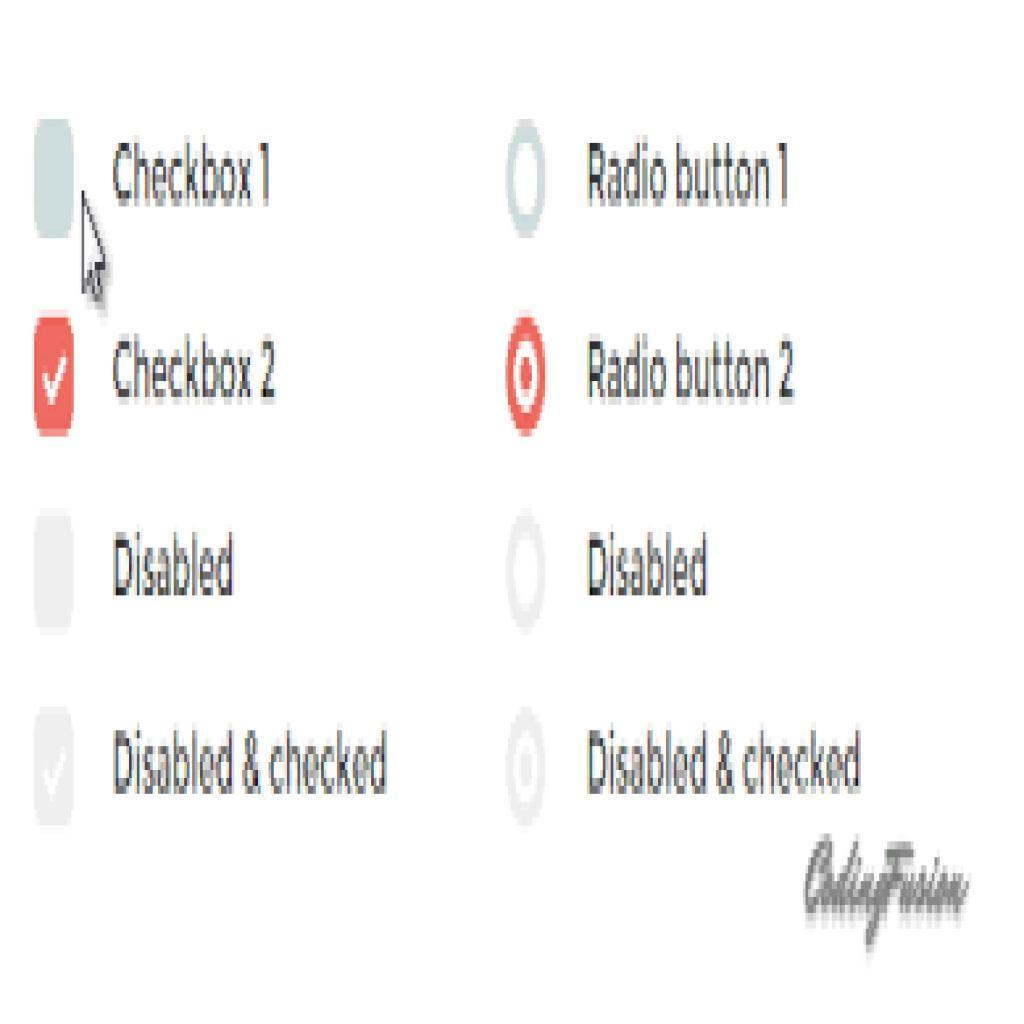checkbox: (26, 106, 85, 248), (29, 499, 87, 631), (31, 308, 85, 442), (32, 695, 84, 829)
radio: (499, 700, 556, 831), (505, 314, 560, 441), (505, 113, 554, 249), (508, 513, 557, 638)
